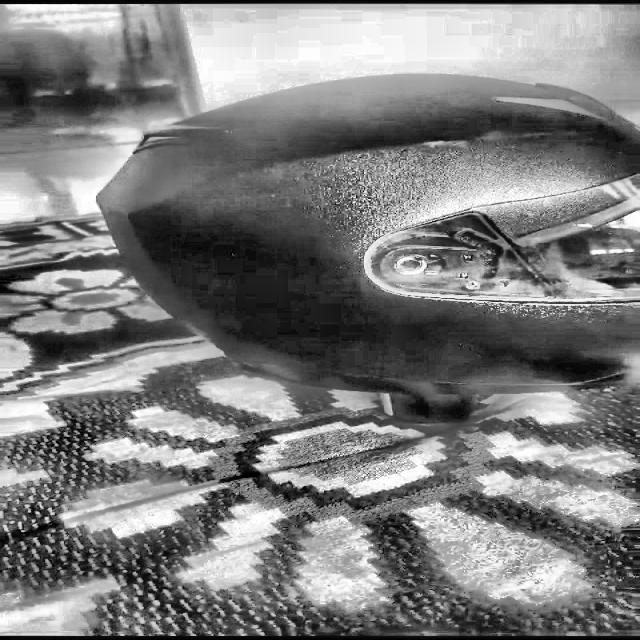Helmet: (85, 74, 640, 426)
